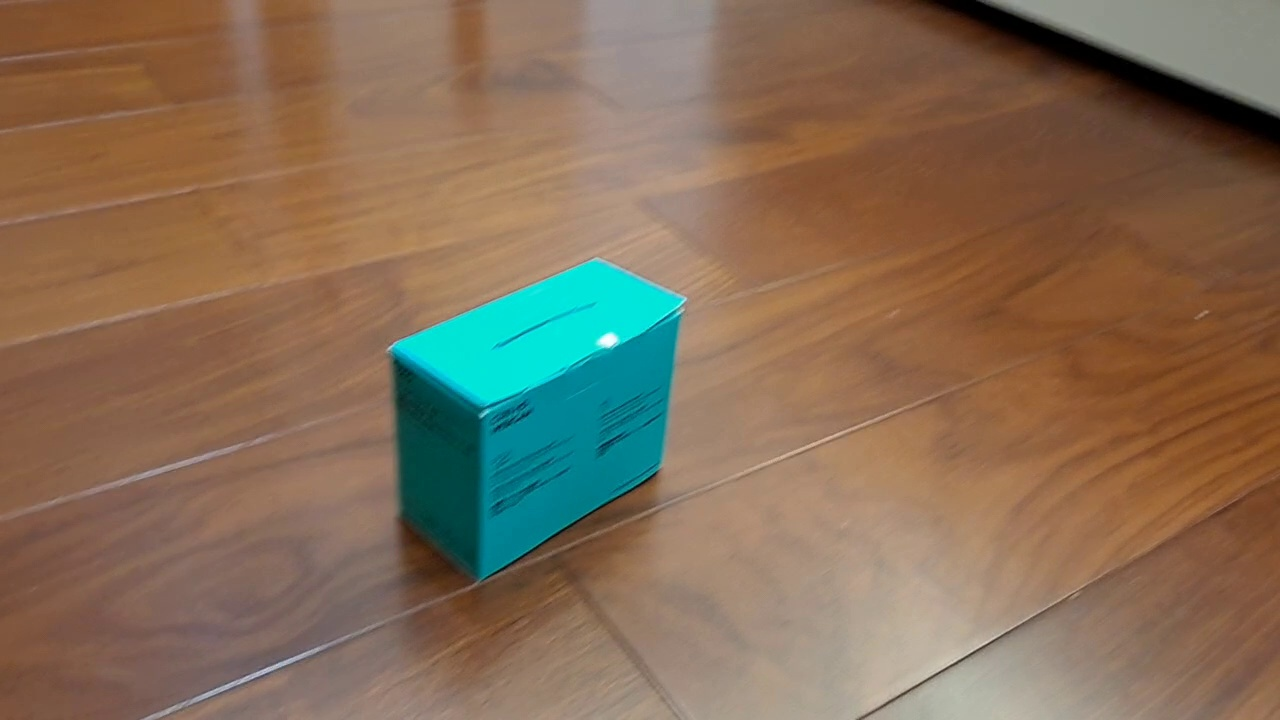webcam: (385, 255, 689, 584)
